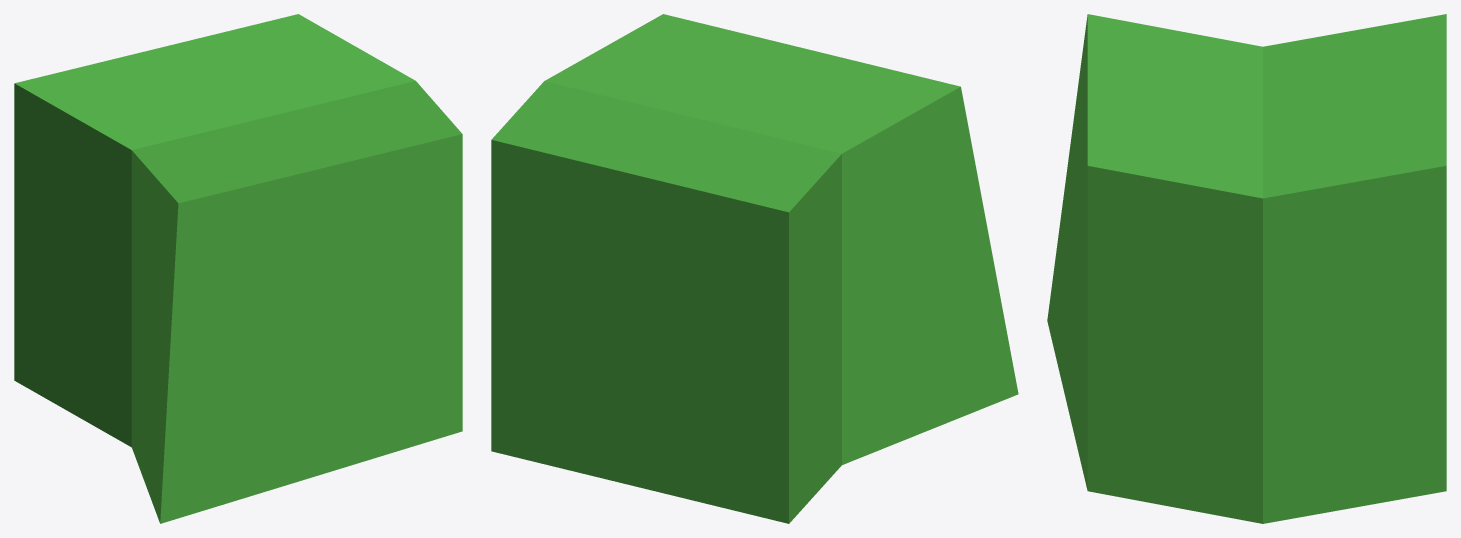
3 renders of one model, left to right at view 1: azimuth 30°, elevation 25°; view 2: azimuth 150°, elevation 25°; view 3: azimuth 270°, elevation 25°, orthographic. The views are drawn at different scales.
Parts seen in each view (by area): view 1: Cube; view 2: Cube; view 3: Cube.
Boxes of the visible parts, x1,y1,x2,y2 form: Cube: (14, 14, 462, 523); Cube: (491, 14, 1018, 523); Cube: (1047, 14, 1446, 523).
Size of the model in its own units: 0.76 by 0.6375 by 0.678.
